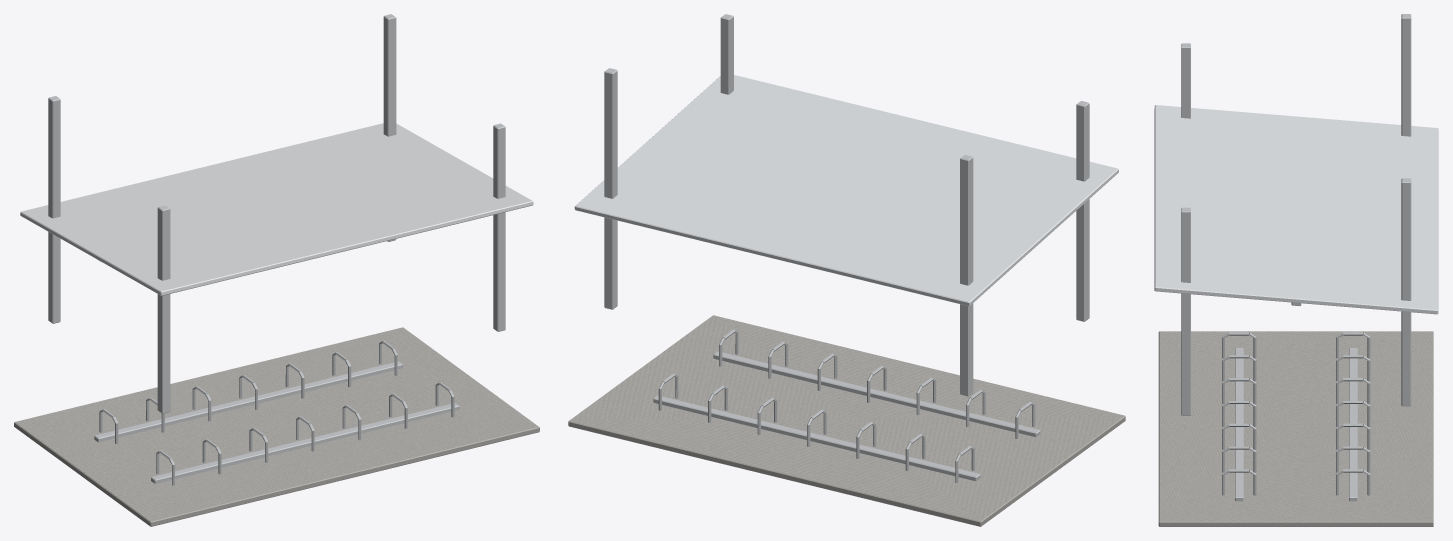
Rendered from japanese-school-and-city-street-bicycle-shelter-e07a150c__30071.glb.
3 views of the same model, side by side, from view 1: azimuth 30°, elevation 25°; view 2: azimuth 150°, elevation 25°; view 3: azimuth 270°, elevation 25° (orthographic). The views are drawn at different scales.
Visible parts, largest first — view 1: bicycle-shelter; view 2: bicycle-shelter; view 3: bicycle-shelter.
Part boxes in pixels (x1,y1,x2,y2): bicycle-shelter: [14, 14, 539, 526]; bicycle-shelter: [568, 14, 1125, 526]; bicycle-shelter: [1154, 14, 1438, 526].
Bounding box in the file's own units: 4.6 × 3.76 × 2.89.
3 materials, 1 textured.
